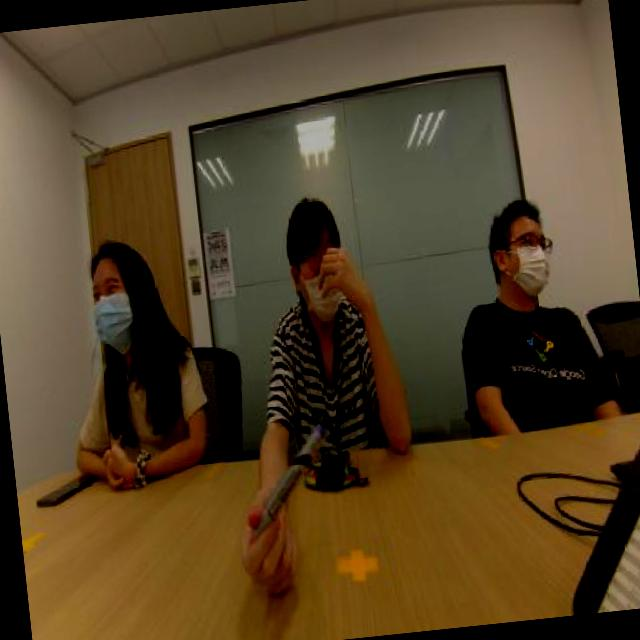Person: (440, 164, 616, 443), (243, 168, 388, 468), (48, 195, 198, 474)
